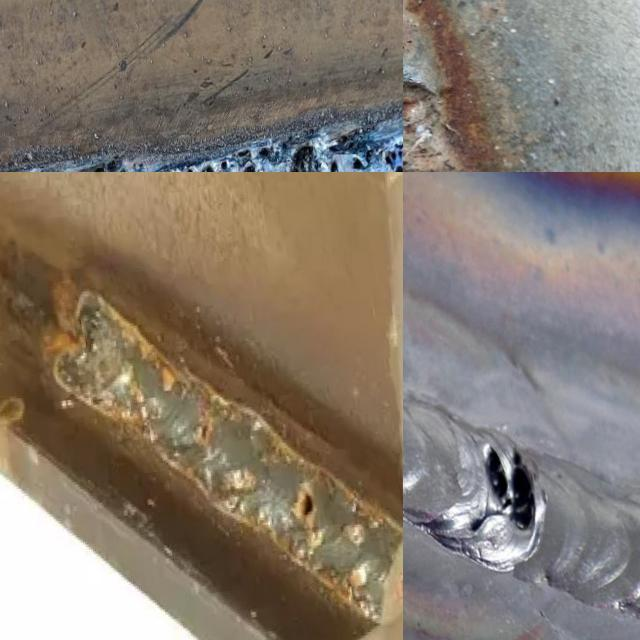defect: (478, 436, 544, 539), (403, 73, 442, 116), (286, 141, 320, 172), (325, 125, 356, 156), (380, 139, 403, 172), (296, 485, 316, 518), (351, 145, 375, 172), (235, 147, 257, 172), (196, 412, 213, 442), (403, 34, 417, 57), (258, 144, 269, 159), (218, 158, 228, 170), (329, 158, 337, 172), (280, 139, 287, 151)
